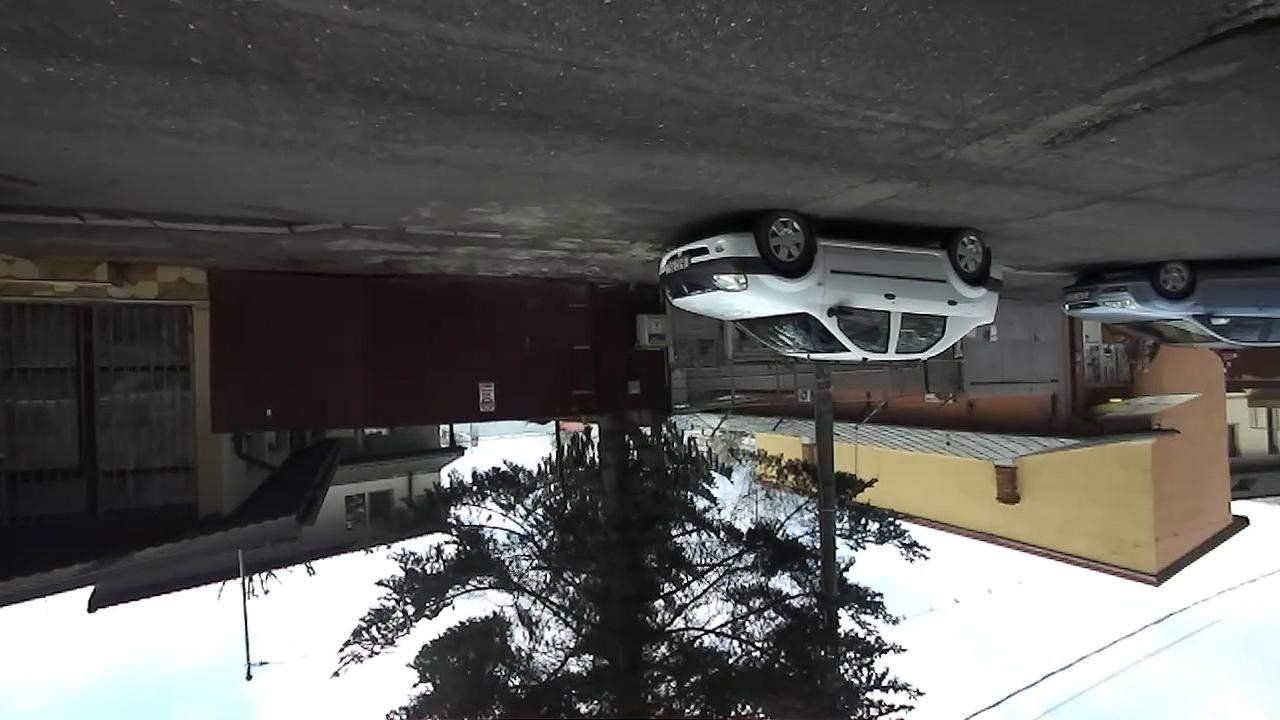pothole: (1124, 1, 1280, 81), (1034, 85, 1173, 158)
